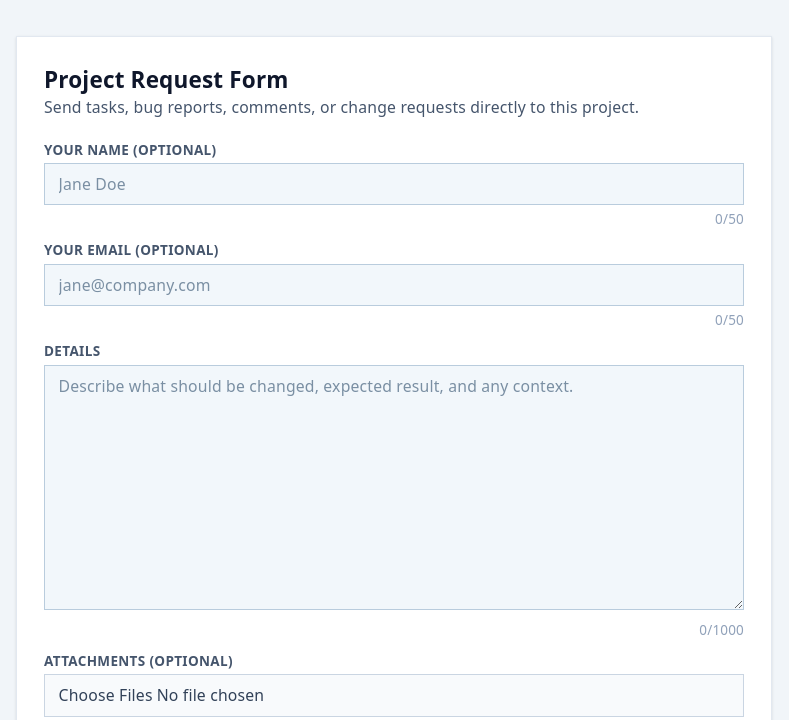
Test: ClientIntakePage › disables submit for invalid optional email format
Replace the text in the text box labelled "Details 0/1000" with "Checkout button overlaps the footer on iPhone SE.". click: (394, 487)
box: [44,365,744,610]
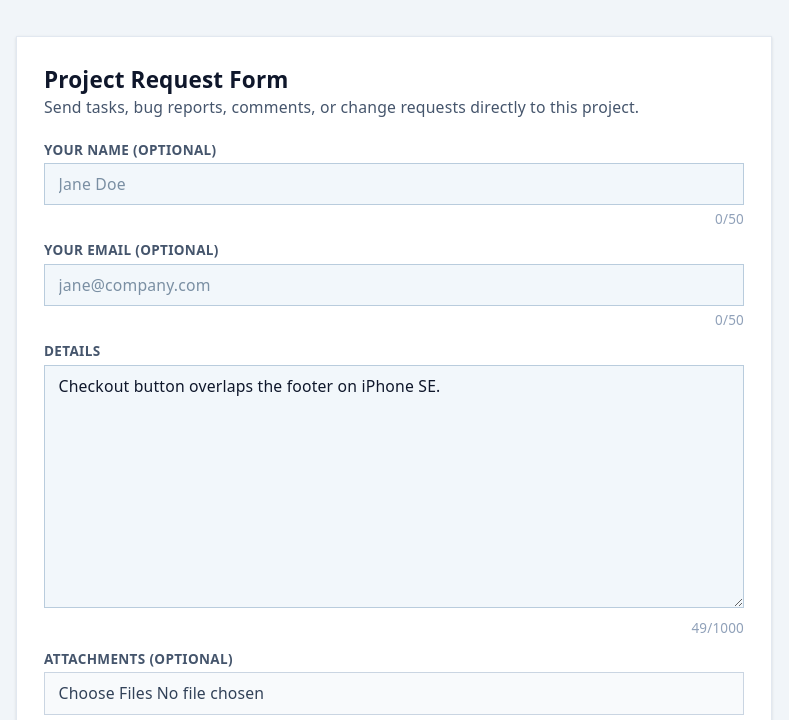
Type "not-an-email" into the field labelled "Your Email (optional) 0/50". click: (394, 285)
box: [44,264,744,306]
(page scrolled)
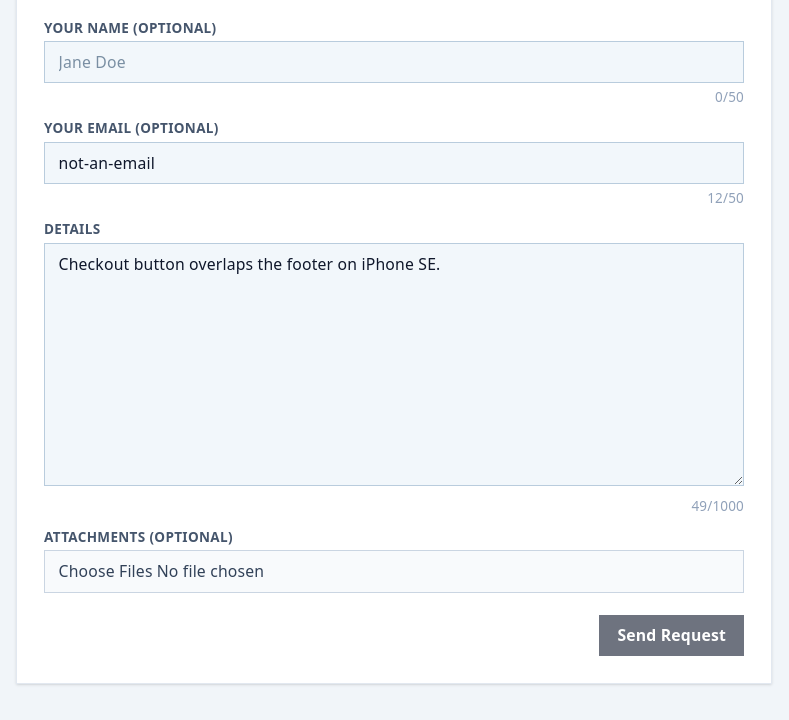
Now the button "Send Request" is disabled, box [599,616,744,656]
